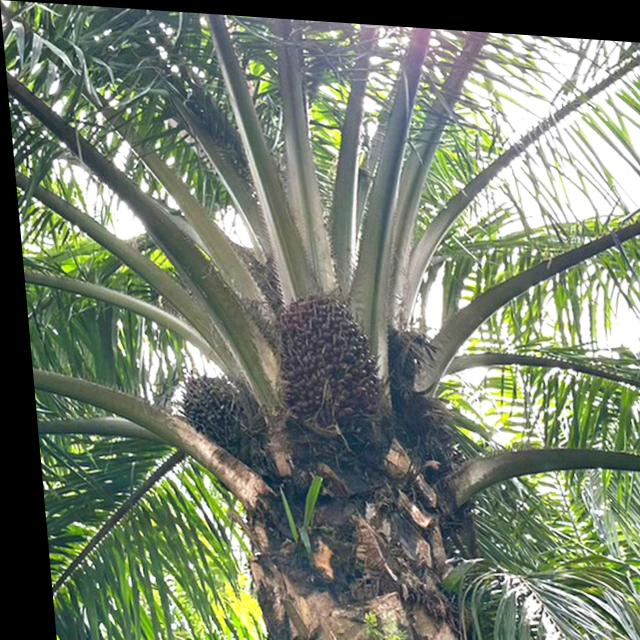ripe: (266, 284, 375, 416), (166, 368, 265, 463)
